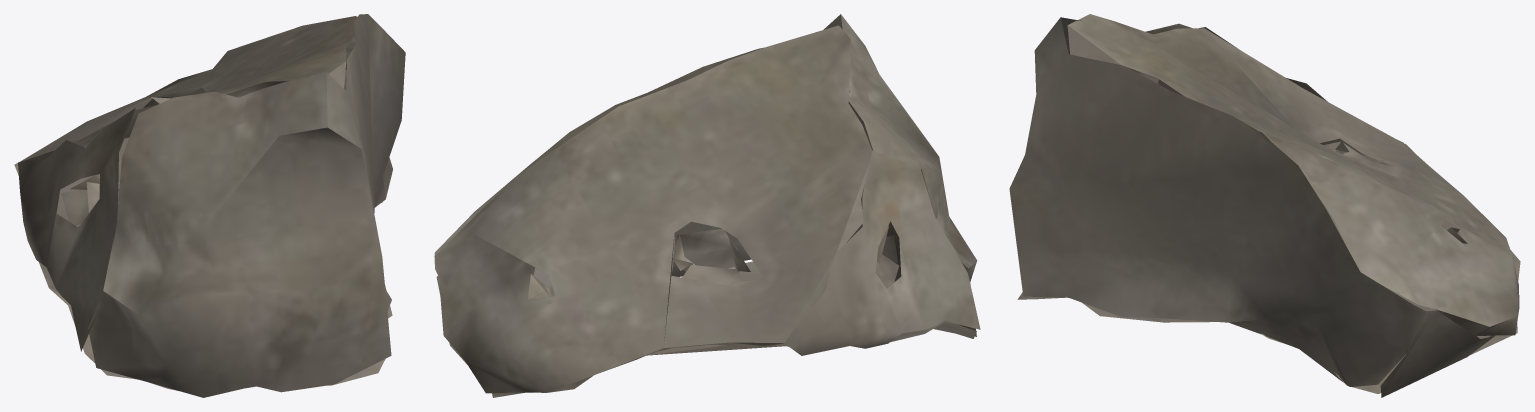
File: rock_d_lo.glb
3 renders of one model, left to right at view 1: azimuth 30°, elevation 25°; view 2: azimuth 150°, elevation 25°; view 3: azimuth 270°, elevation 25°, orthographic. The views are drawn at different scales.
Visible parts, largest first — view 1: rock_d_lo; view 2: rock_d_lo; view 3: rock_d_lo.
Boxes of the visible parts, bbox=[...] form: rock_d_lo: bbox=[14, 14, 405, 397]; rock_d_lo: bbox=[434, 14, 980, 397]; rock_d_lo: bbox=[1009, 14, 1520, 397].
Bounding box in the file's own units: 1.59 × 1.01 × 1.67.
Materials: 1 (1 with a texture image).
